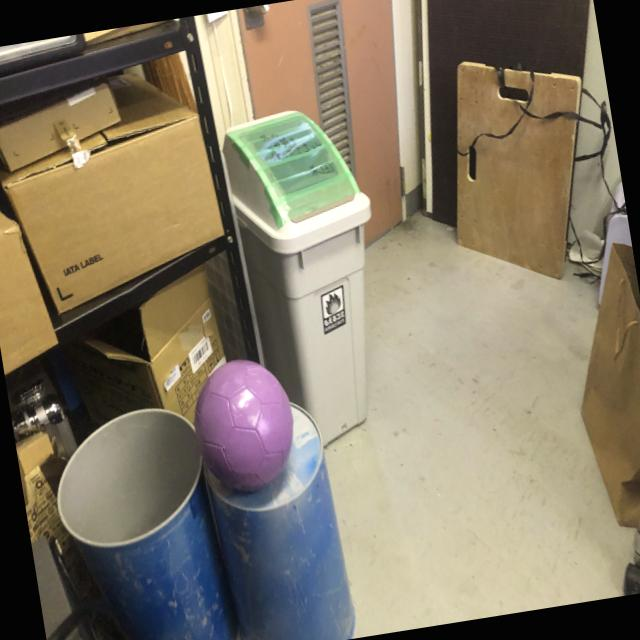purple_ball: (186, 354, 303, 499)
